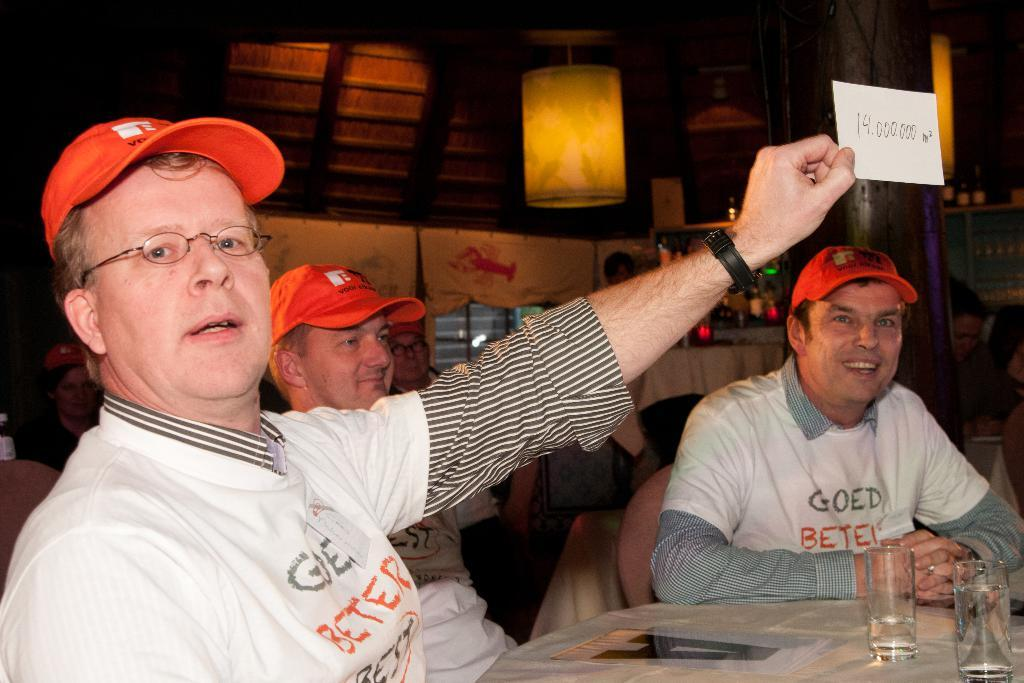Hat: (42, 115, 286, 255), (270, 262, 424, 338), (788, 244, 918, 308)
